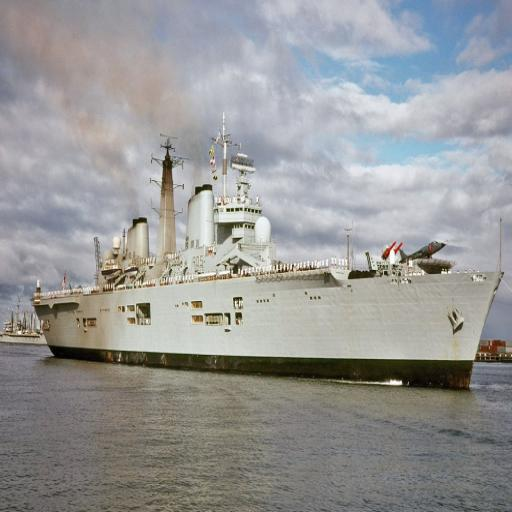Portanaves: (28, 109, 510, 410)
